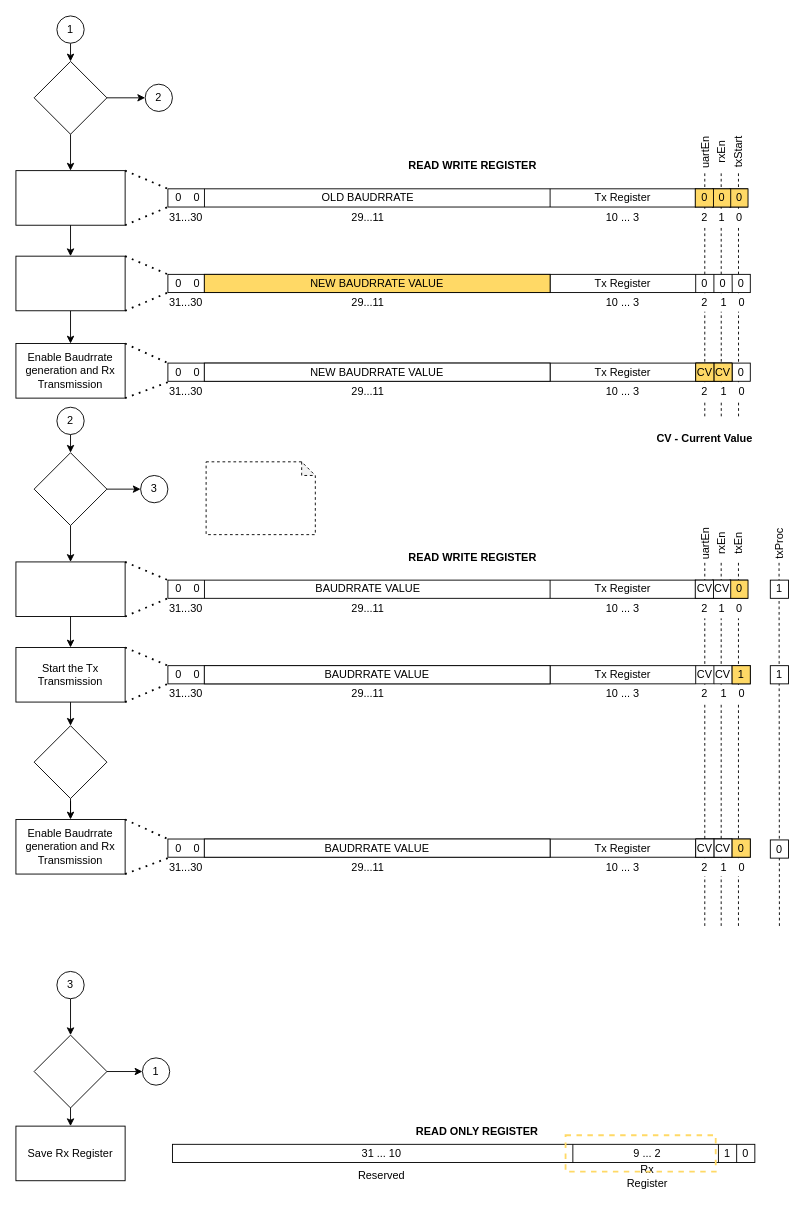
The diagram is 809 pixels wide and 1206 high, and some of its shapes have lost their labels. Each missing label, with the centre of its shape:
"Baudrrate Change?" goes at (x=70, y=97).
"Baudrrate new configuration" goes at (x=70, y=283).
"rxDone and uarttEn" goes at (x=70, y=1071).
"Stop Baudrrate generation" goes at (x=70, y=197).
"txDone?" goes at (x=70, y=762).
"txProc exists to ensure that the Tx Register process is completed" goes at (x=260, y=498).
"txStart or txProc ?" goes at (x=70, y=489).
"Update data for Tx Register" goes at (x=70, y=589).
